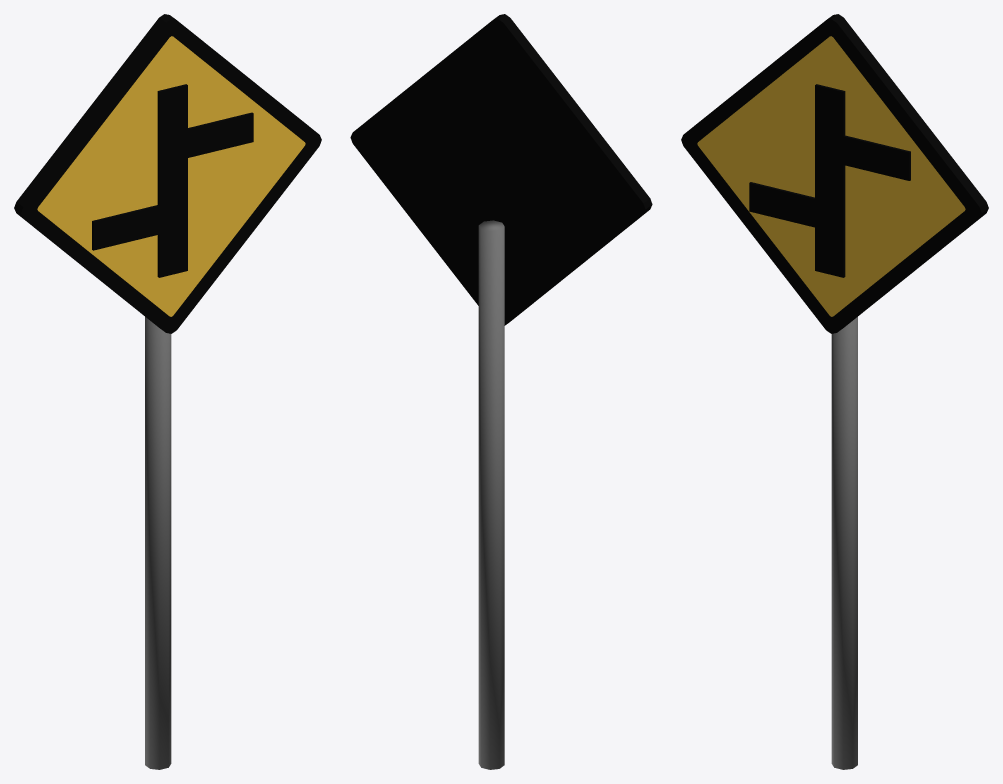
Rendered from Prop_StreetSign_Staggered.fbx.
3 views of the same model, side by side, from view 1: azimuth 30°, elevation 25°; view 2: azimuth 150°, elevation 25°; view 3: azimuth 330°, elevation 25° (orthographic).
Parts seen in each view (by area): view 1: Prop_StreetSign_Staggered; view 2: Prop_StreetSign_Staggered; view 3: Prop_StreetSign_Staggered.
Boxes of the visible parts, x1,y1,x2,y2 form: Prop_StreetSign_Staggered: [14, 14, 321, 769]; Prop_StreetSign_Staggered: [350, 14, 652, 769]; Prop_StreetSign_Staggered: [681, 14, 988, 769].
Bounding box in the file's own units: 190 × 455 × 23.54.
